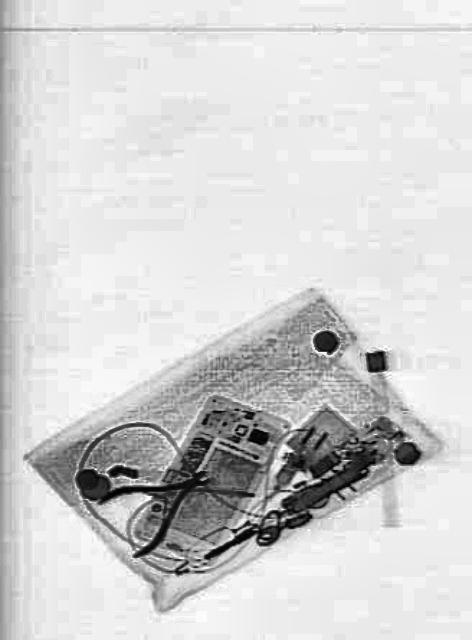Pliers: (94, 438, 219, 566)
